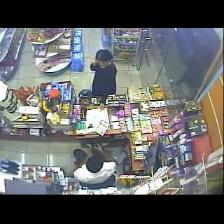person: (74, 145, 116, 188), (91, 50, 116, 103)
